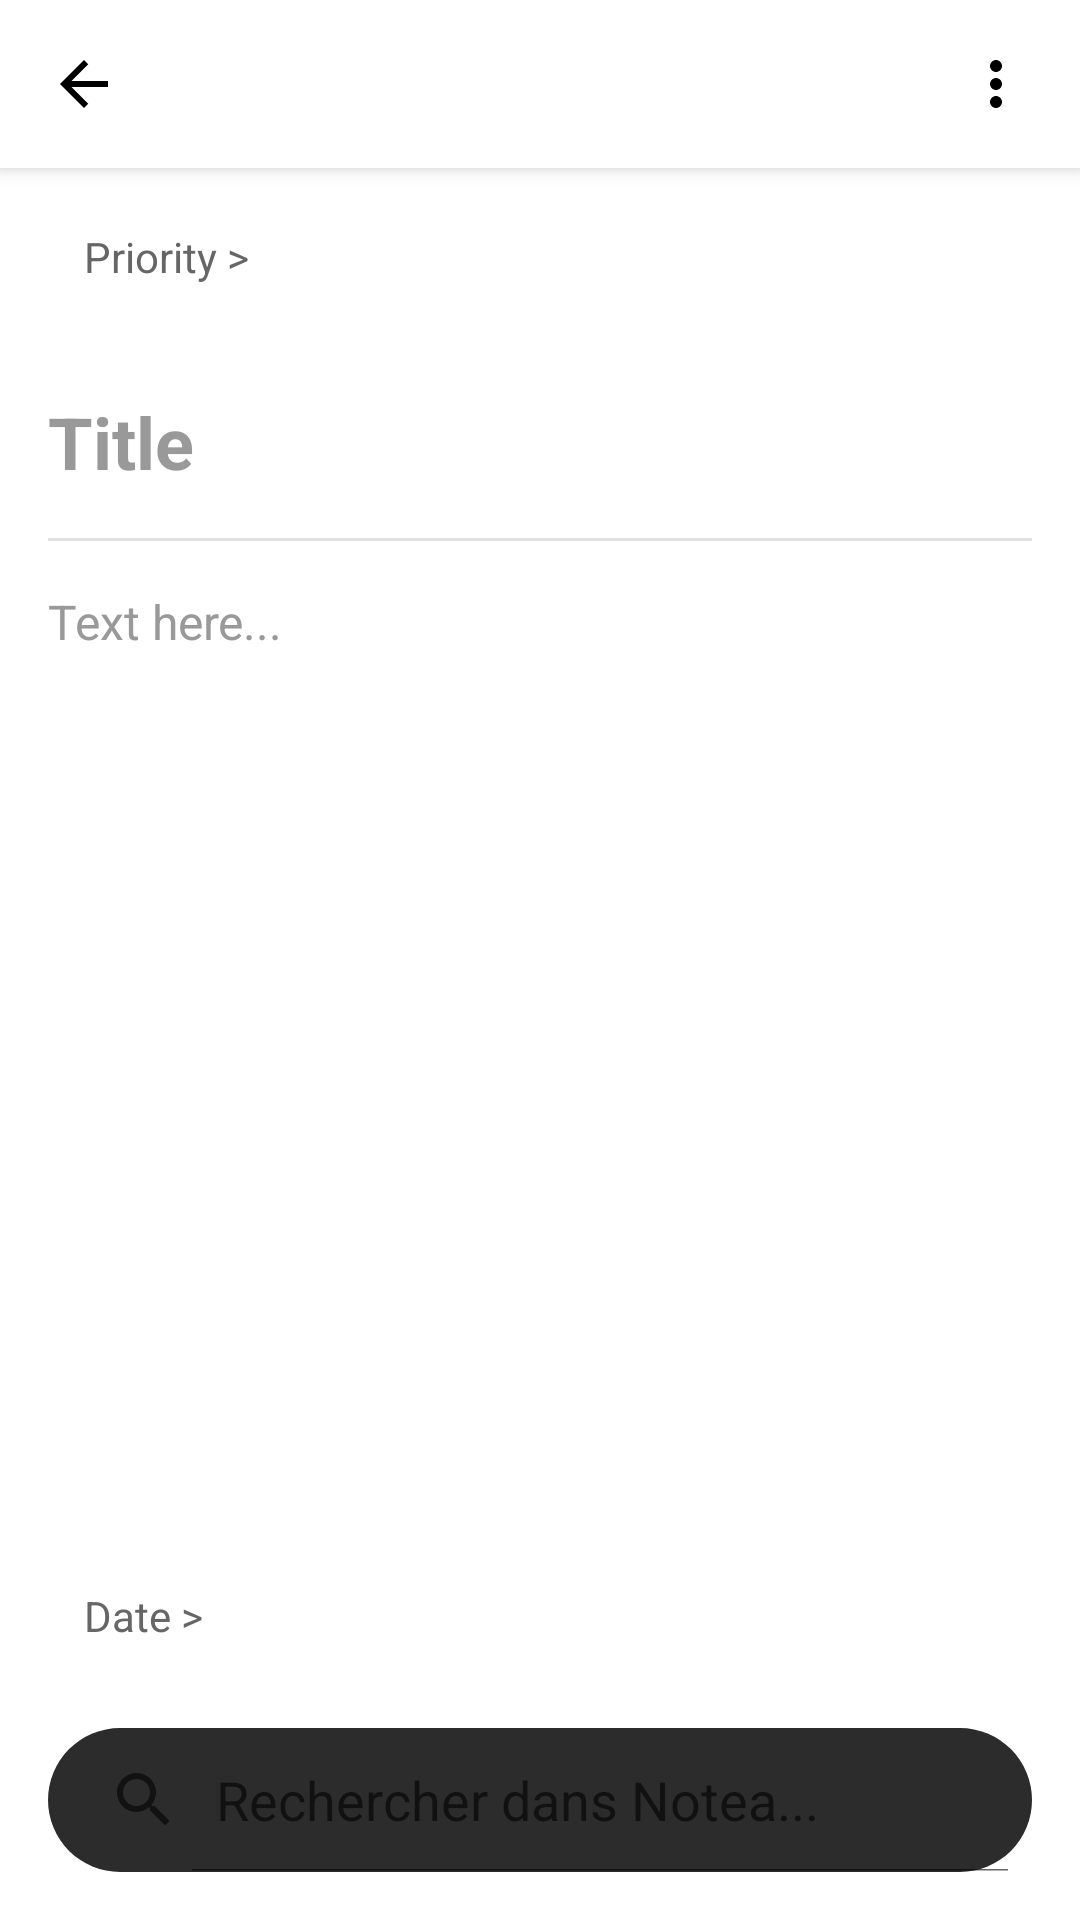

Where to tap for icons on this 1080 x 1920 app screen, as (x,y):
Plus d'options: (996,84)
Retour: (84,84)
